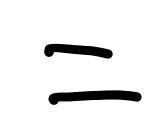eqv: (44, 44, 142, 105)
